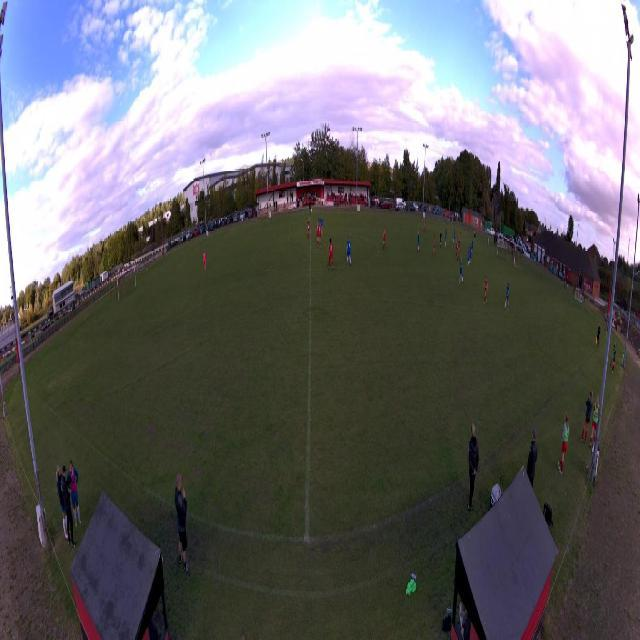ball: (488, 238, 489, 242)
player: (328, 237, 335, 272), (346, 235, 352, 267), (504, 281, 510, 310), (459, 256, 464, 286), (483, 275, 488, 305), (320, 215, 325, 239), (306, 216, 311, 240), (432, 234, 437, 258), (316, 221, 320, 249), (318, 221, 322, 249), (382, 225, 386, 251), (417, 230, 421, 254), (467, 245, 471, 269), (457, 240, 461, 262), (203, 249, 207, 271), (452, 227, 456, 245), (469, 242, 472, 266), (439, 229, 442, 251), (456, 238, 459, 259), (459, 230, 462, 250), (445, 228, 448, 248), (471, 237, 474, 255), (424, 218, 427, 234), (487, 234, 490, 248)
